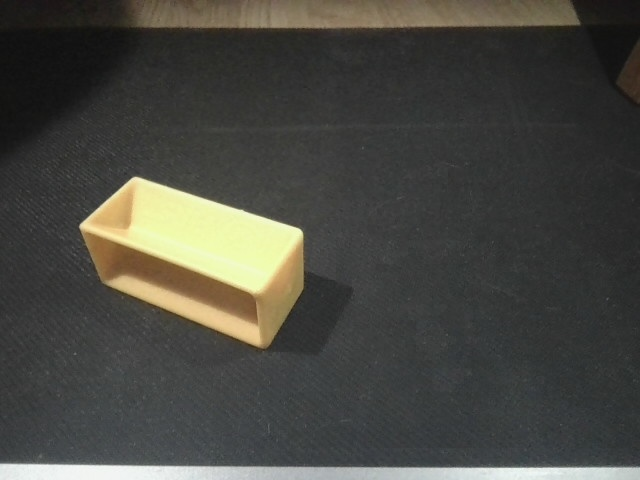YellowSample: (76, 174, 311, 363)
